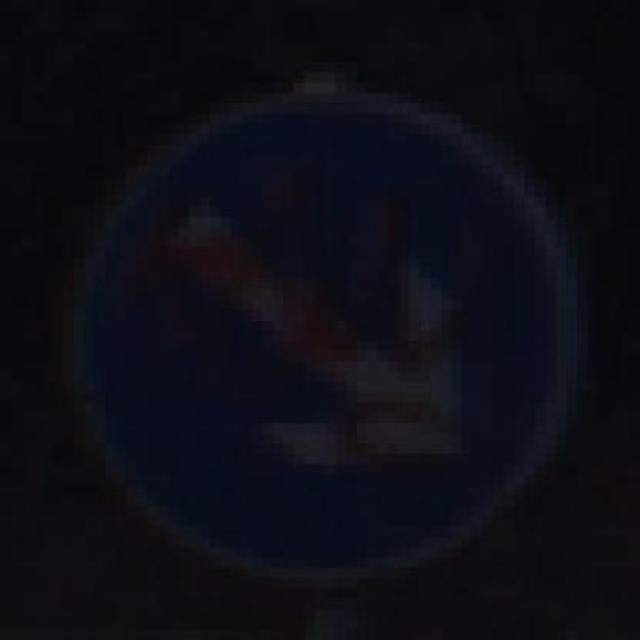Keep-Right: (63, 72, 599, 598)
